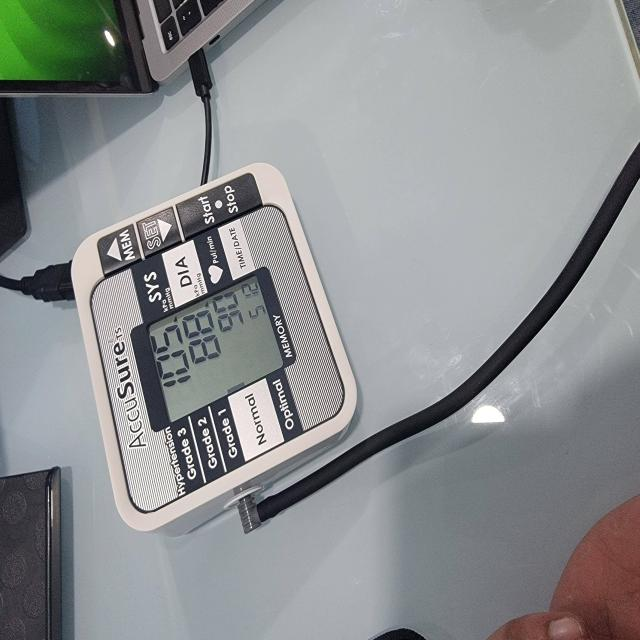bp: (68, 157, 368, 542)
